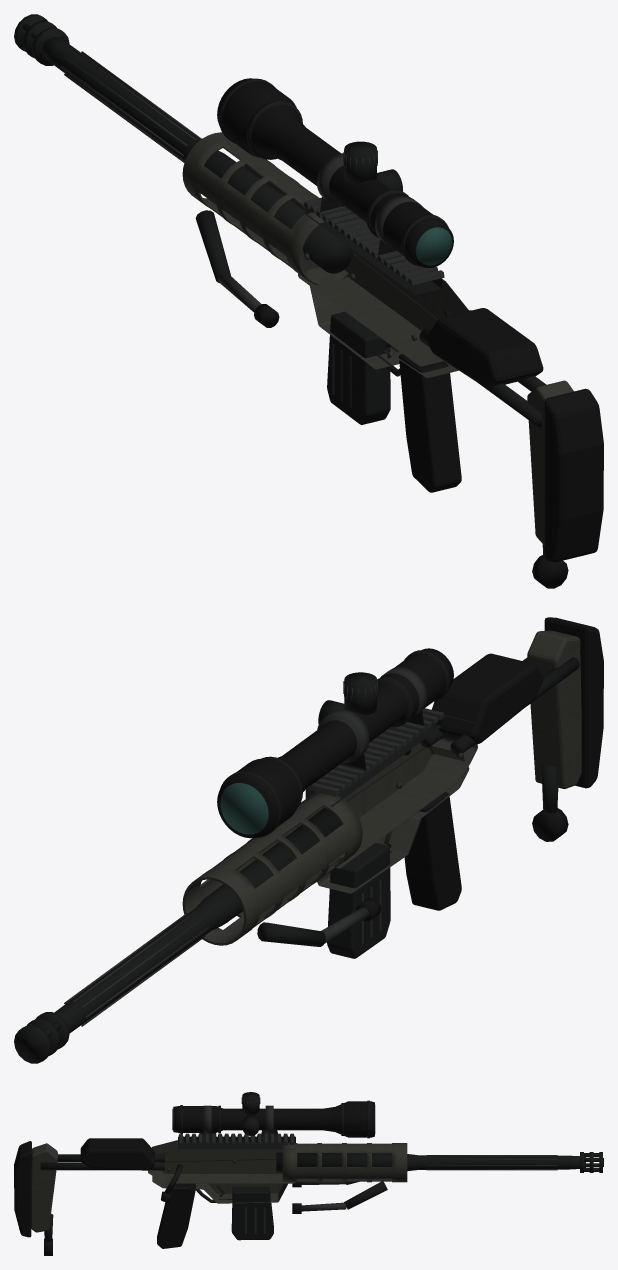
File: intervention.glb
3 views of the same model, one above another, from view 1: azimuth 30°, elevation 25°; view 2: azimuth 150°, elevation 25°; view 3: azimuth 270°, elevation 25° (orthographic). The views are drawn at different scales.
Parts seen in each view (by area): view 1: intervention; view 2: intervention; view 3: intervention.
Part boxes in pixels (box(x1,y1,x2,y2)): intervention: box(14, 14, 603, 588); intervention: box(14, 617, 603, 1063); intervention: box(14, 1092, 603, 1255).
Size of the model in its own units: 0.1717 by 0.403 by 1.35.
Materials: 5 (4 with a texture image).
